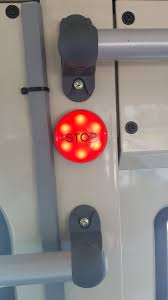bell: (52, 108, 110, 169)
